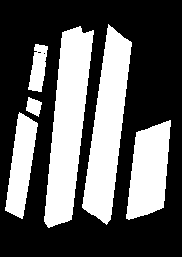parkingspot: (44, 26, 82, 227), (82, 24, 122, 214), (92, 35, 131, 224), (58, 30, 93, 222), (5, 112, 37, 218), (126, 127, 154, 219), (143, 120, 170, 214), (26, 97, 41, 116), (28, 79, 42, 91), (32, 60, 45, 71), (30, 70, 44, 80), (33, 52, 46, 62), (34, 44, 47, 53)
